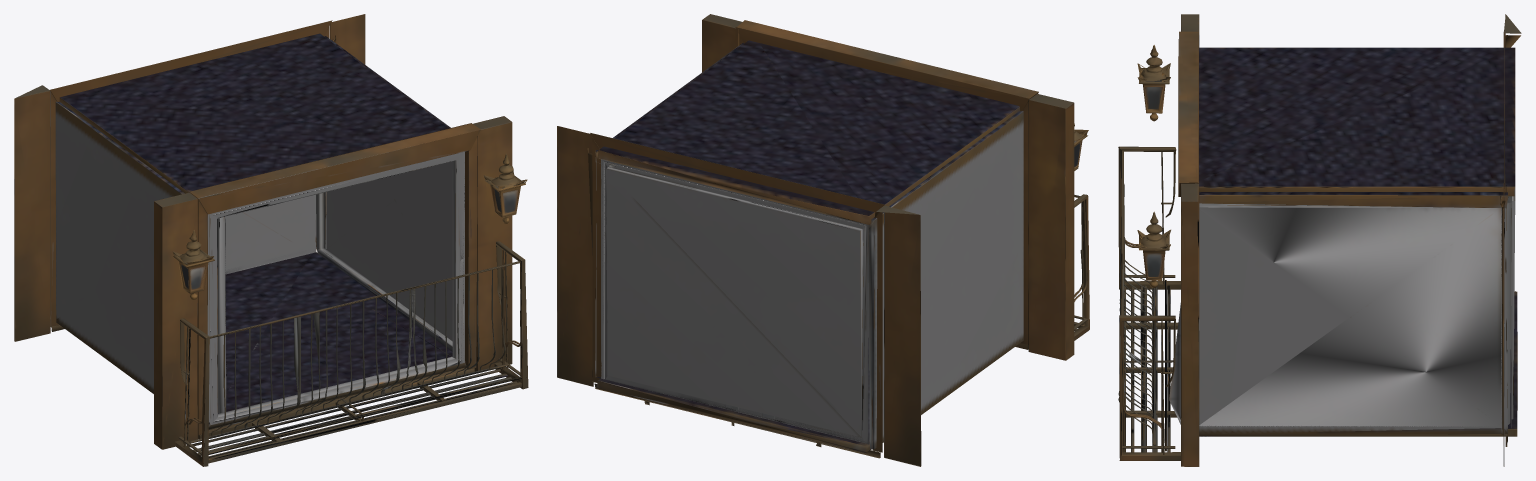
The model's file is balcony-2-opened-room.glb.
3 views of the same model, side by side, from view 1: azimuth 30°, elevation 25°; view 2: azimuth 150°, elevation 25°; view 3: azimuth 270°, elevation 25° (orthographic). The views are drawn at different scales.
Parts seen in each view (by area): view 1: geometry_0; view 2: geometry_0; view 3: geometry_0.
Boxes of the visible parts, x1=… form: geometry_0: x1=14, y1=14, x2=528, y2=466; geometry_0: x1=557, y1=14, x2=1089, y2=466; geometry_0: x1=1118, y1=14, x2=1521, y2=466.
Bounding box in the file's own units: 0.9058 × 0.603 × 0.8232.
1 material, 1 textured.
